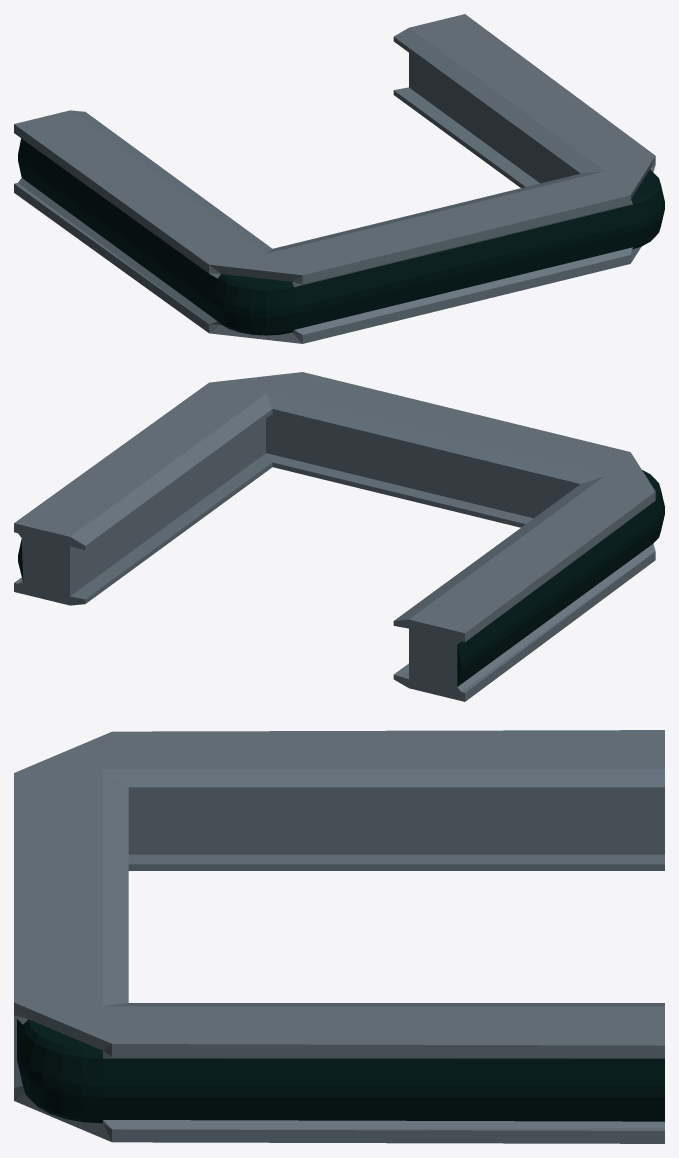
File: ThreeSideFrame.fbx
3 renders of one model, top to bottom at view 1: azimuth 30°, elevation 25°; view 2: azimuth 150°, elevation 25°; view 3: azimuth 270°, elevation 25°, orthographic. The views are drawn at different scales.
Parts seen in each view (by area): view 1: THREEsideFrame; view 2: THREEsideFrame; view 3: THREEsideFrame.
Boxes of the visible parts, x1,y1,x2,y2 form: THREEsideFrame: (14, 14, 664, 343); THREEsideFrame: (14, 372, 664, 701); THREEsideFrame: (14, 730, 664, 1143).
Bounding box in the file's own units: 13.29 × 1.93 × 11.59.
